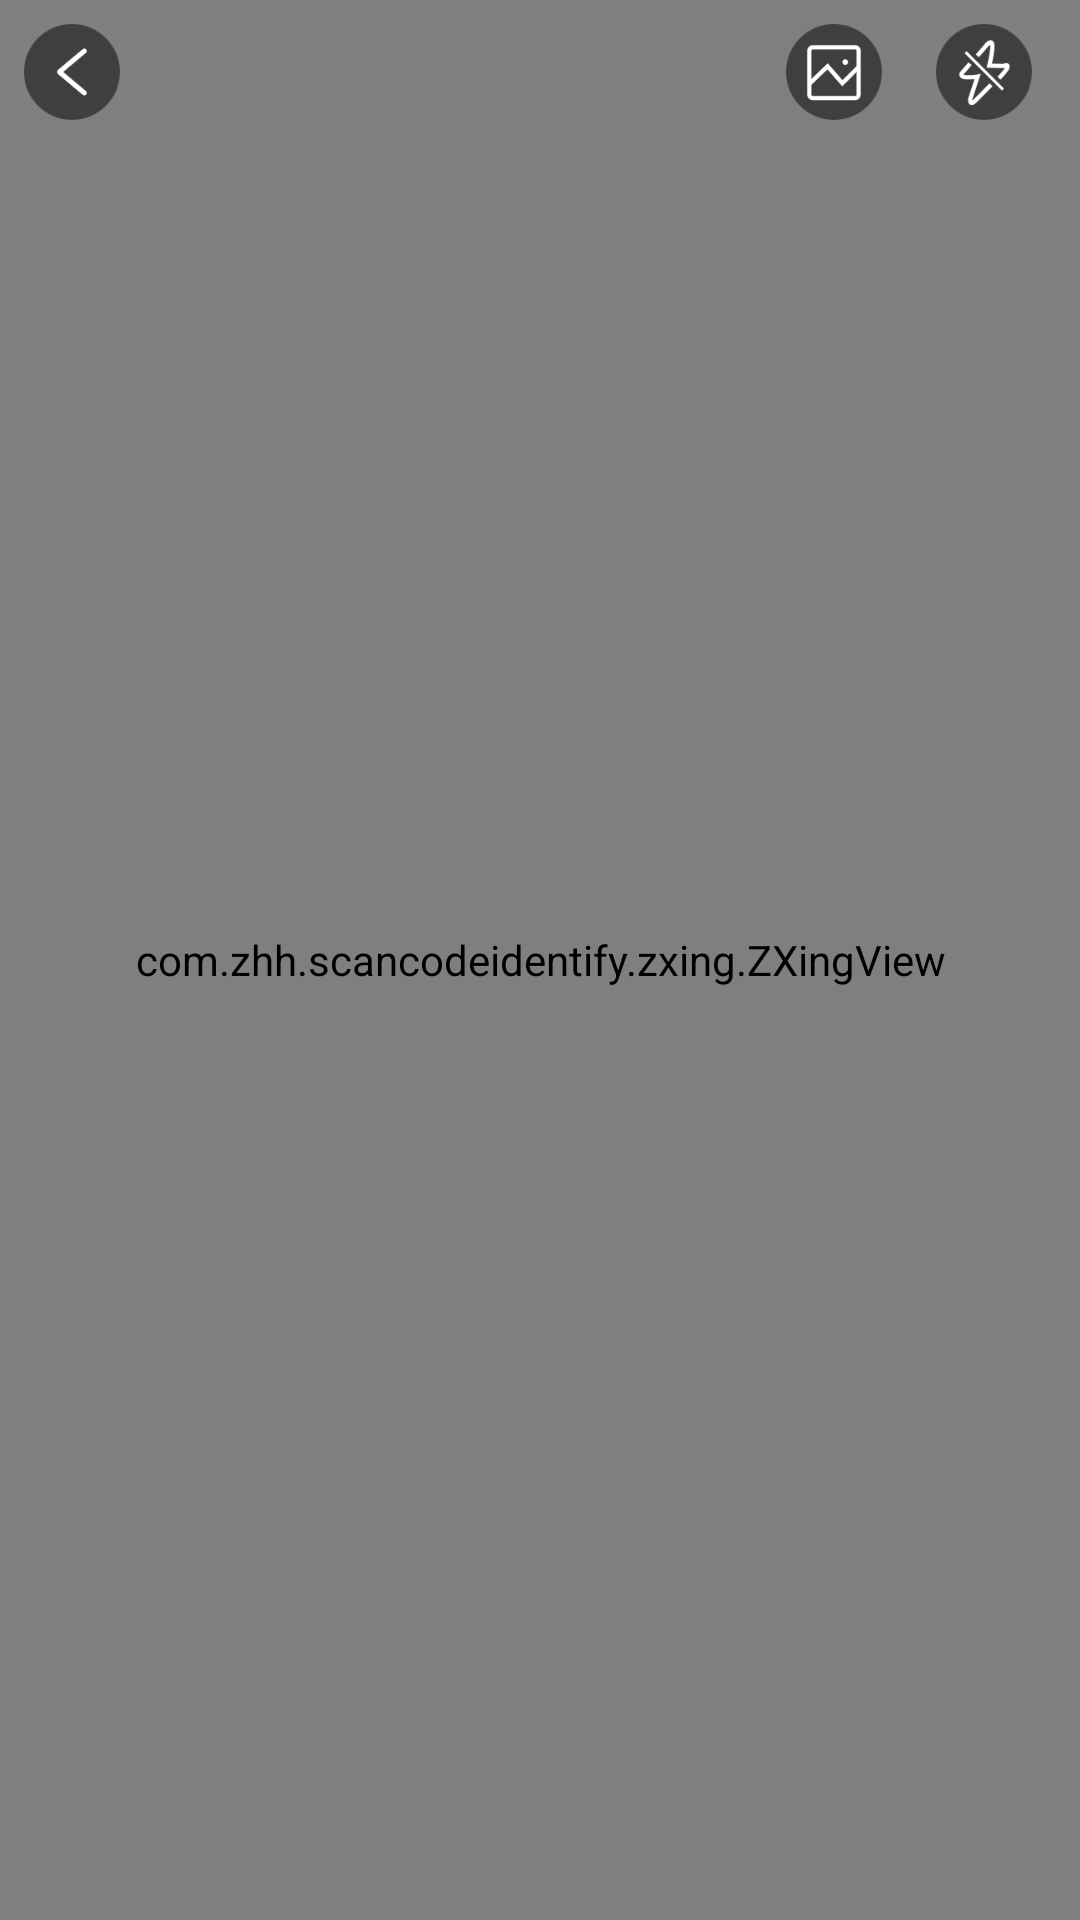

Icons on this 1080px×1920px Android screen, each with the point to tap as [x,y]:
scancode back: [72,72]
scancode localimg: [834,72]
scancode toggle lamplight: [984,72]
